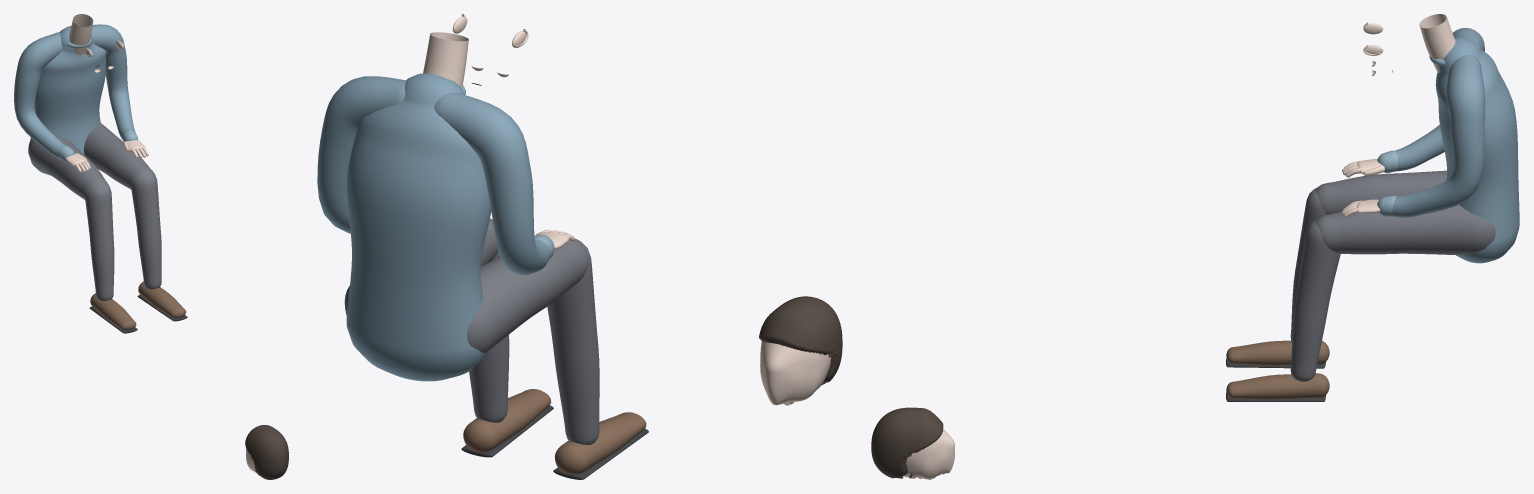
The model's file is Patient.fbx.
3 views of the same model, side by side, from view 1: azimuth 30°, elevation 25°; view 2: azimuth 150°, elevation 25°; view 3: azimuth 270°, elevation 25° (orthographic). The views are drawn at different scales.
Parts seen in each view (by area): view 1: Torso, Sleeve, LowerLeg, LowerLeg.001, Sleeve.001, Thigh.001, Thigh, HairCap, Shoe.001, Shoe, Neck; view 2: Torso, Sleeve, LowerLeg, Thigh, Sleeve.001, HairCap, Head, Shoe, LowerLeg.001, Shoe.001, Neck, Thigh.001 (+1 smaller); view 3: Torso, Thigh.001, Sleeve.001, LowerLeg.001, HairCap, Thigh, Shoe.001, Shoe, Sleeve, Head, Neck, LowerLeg.
Boxes of the visible parts, x1,y1,x2,y2 form: Torso: [30, 26, 106, 175]; Sleeve: [14, 32, 65, 158]; LowerLeg: [85, 185, 114, 300]; LowerLeg.001: [131, 174, 161, 289]; Sleeve.001: [91, 24, 135, 139]; Thigh.001: [84, 123, 155, 189]; Thigh: [28, 136, 109, 199]; HairCap: [245, 425, 288, 479]; Shoe.001: [138, 281, 186, 318]; Shoe: [90, 293, 136, 330]; Neck: [69, 14, 93, 55]; Torso: [346, 73, 491, 381]; Sleeve: [434, 92, 550, 275]; LowerLeg: [547, 239, 599, 444]; Thigh: [467, 238, 588, 352]; Sleeve.001: [317, 76, 405, 233]; HairCap: [759, 296, 842, 382]; Head: [760, 341, 830, 405]; Shoe: [555, 412, 646, 474]; LowerLeg.001: [469, 218, 509, 422]; Shoe.001: [463, 389, 551, 452]; Neck: [423, 32, 468, 87]; Thigh.001: [344, 219, 498, 315]; Torso: [1435, 37, 1519, 263]; Thigh.001: [1316, 204, 1495, 255]; Sleeve.001: [1392, 55, 1484, 217]; LowerLeg.001: [1290, 220, 1340, 381]; HairCap: [871, 407, 943, 478]; Thigh: [1316, 170, 1447, 214]; Shoe.001: [1226, 373, 1329, 399]; Shoe: [1226, 340, 1329, 365]; Sleeve: [1395, 28, 1484, 171]; Head: [902, 429, 954, 479]; Neck: [1419, 14, 1455, 72]; LowerLeg: [1290, 188, 1326, 341].
Bounding box in the file's own units: 0.5307 × 1.49 × 1.9.
